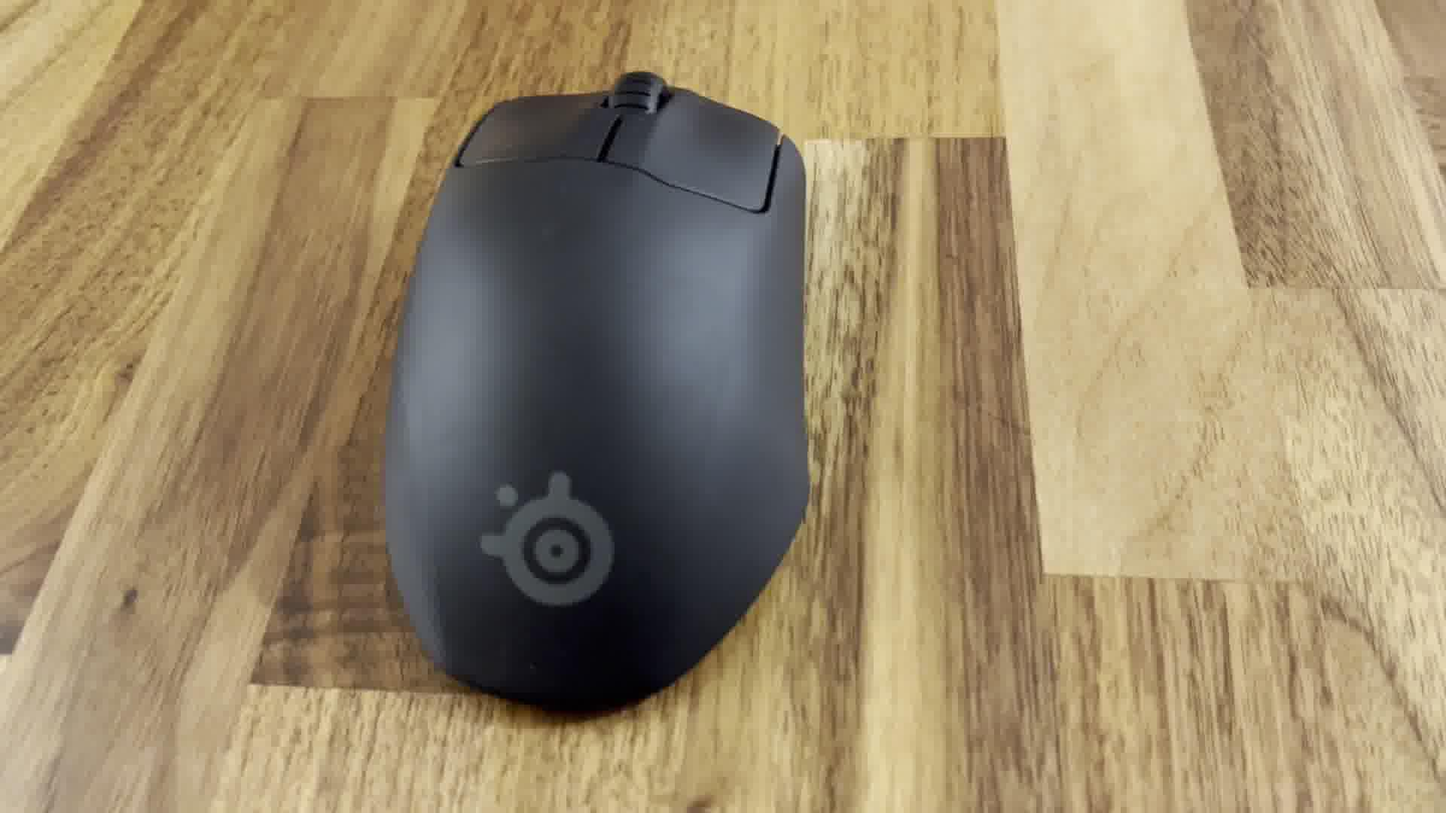mouse: (382, 68, 817, 727)
